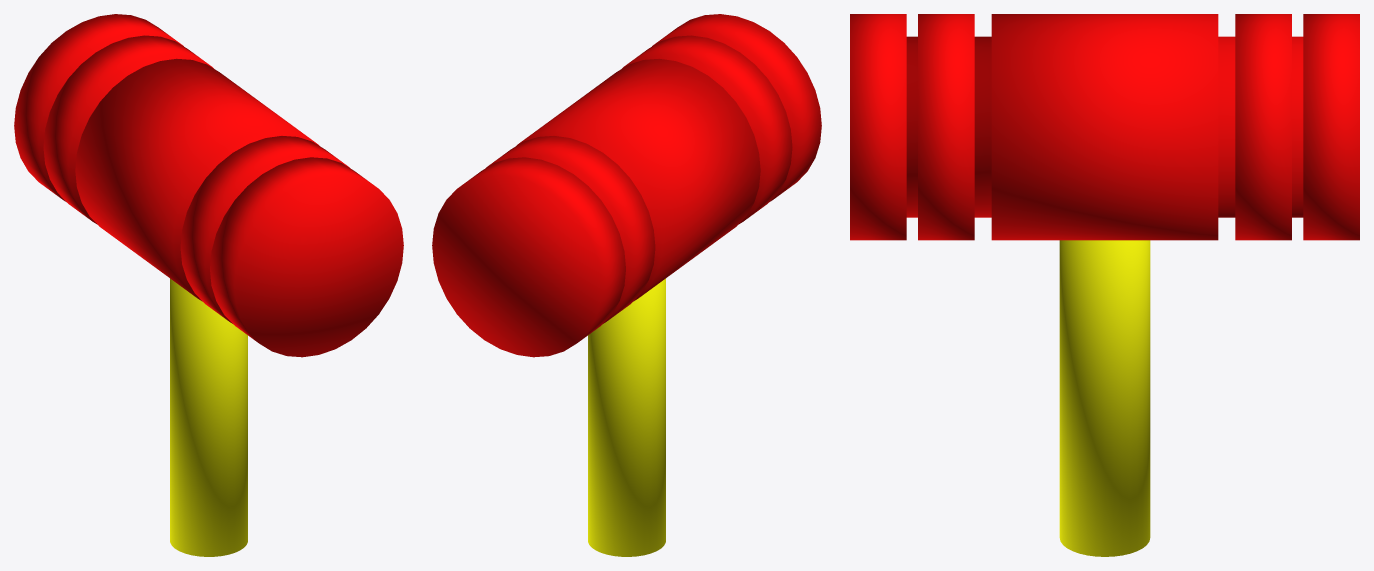
Rendered from hammer.fbx.
The picture shows the model from 3 angles, left to right: view 1: azimuth 30°, elevation 25°; view 2: azimuth 150°, elevation 25°; view 3: azimuth 270°, elevation 25°; orthographic projection. The views are drawn at different scales.
Visible parts, largest first — view 1: Hammer; view 2: Hammer; view 3: Hammer.
Part boxes in pixels (<box>): Hammer: <box>14,14,403,556</box>; Hammer: <box>432,14,821,556</box>; Hammer: <box>850,14,1359,556</box>.
Bounding box in the file's own units: 50 × 125 × 112.
